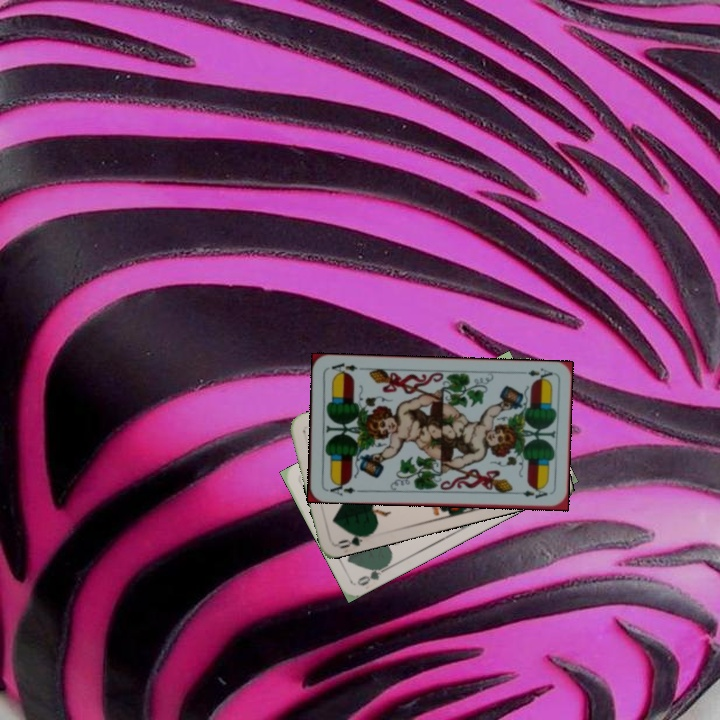EA: (515, 364, 556, 384), (323, 478, 358, 498)
GO: (354, 559, 392, 588), (334, 529, 373, 551)
